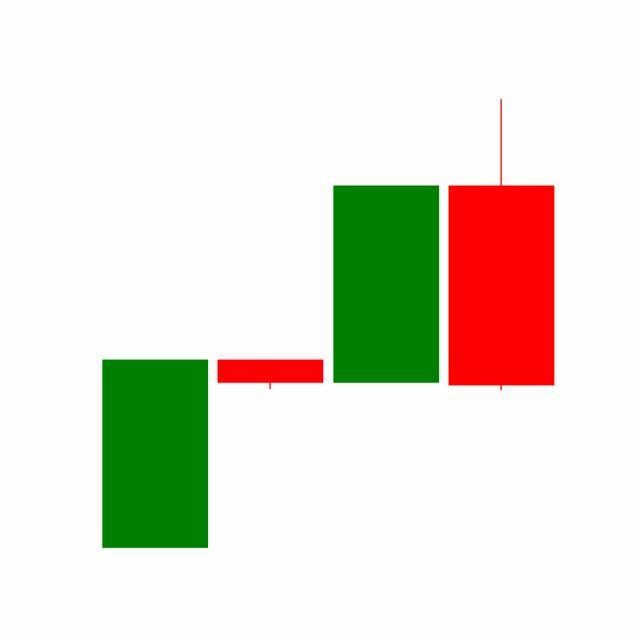Marubozu: (329, 183, 445, 385)
